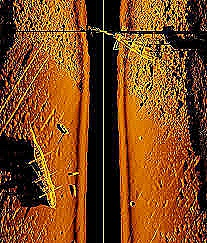ship: (27, 128, 63, 210)
